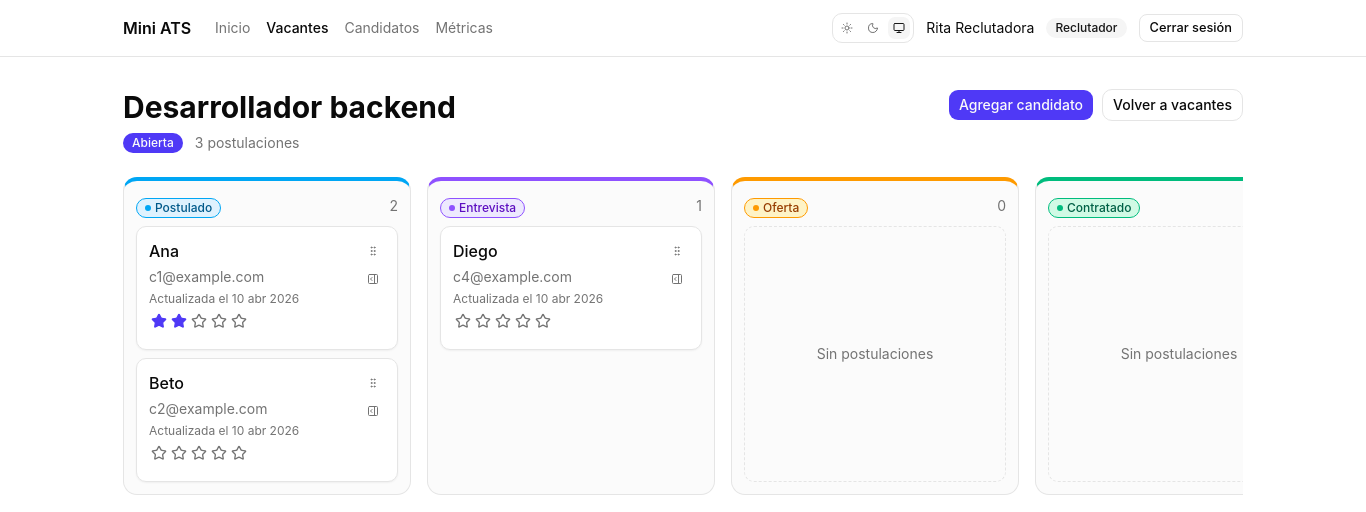
Test: Rating applications on the board › explains a missing application and reloads the board
Expected: the link "Ana" is shown, [149,241,179,261]
Click the button named "Calificar con 1 estrella" below "c1@example.com" at (159, 321), box [149,311,169,331]
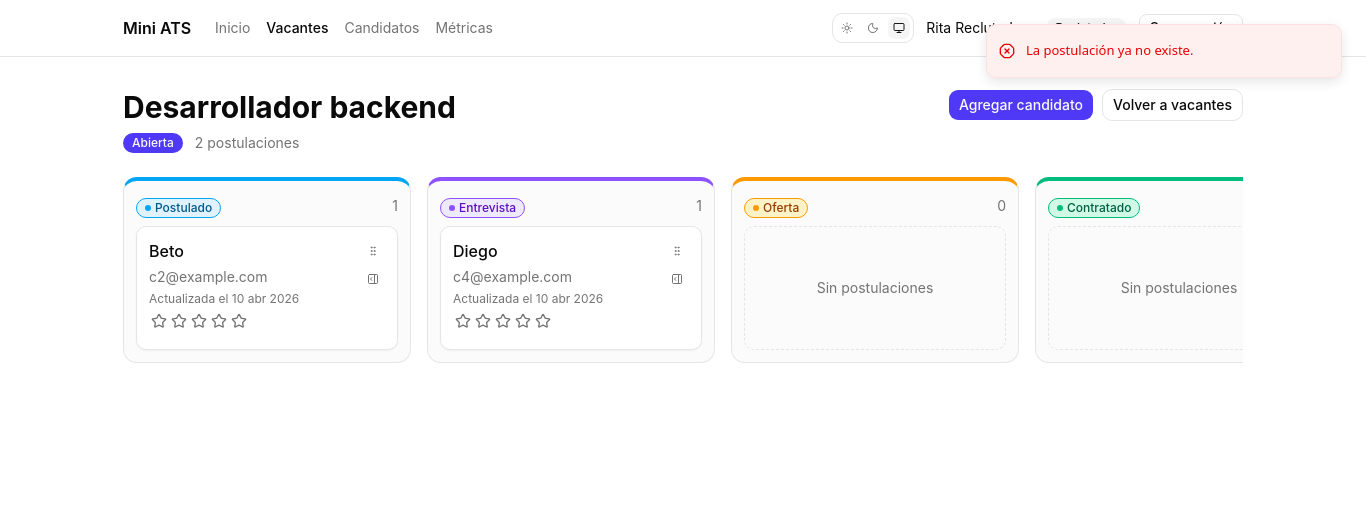
Expected: the text "La postulación ya no existe." is shown, [1026,41,1194,60]
Expected: the link "Ana" is gone
